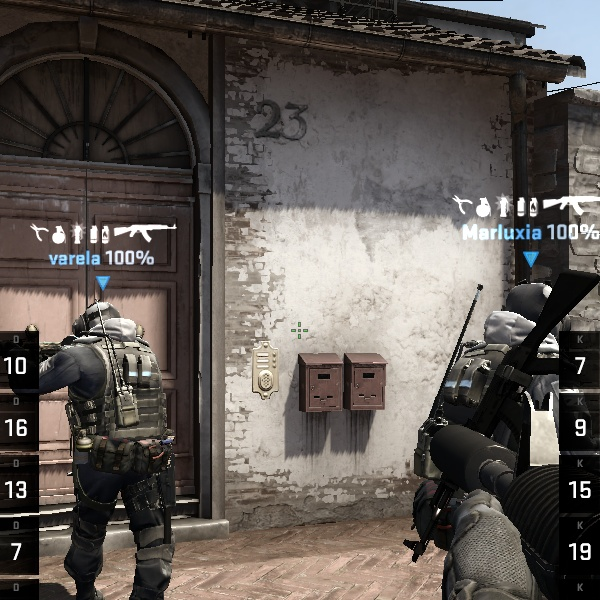ct_body: (400, 257, 591, 597), (19, 292, 189, 600)
ct_head: (62, 294, 123, 355)
